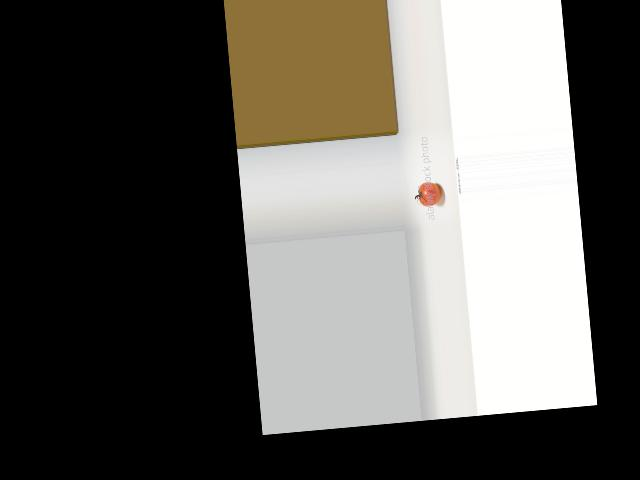tomato: (417, 180, 441, 207)
